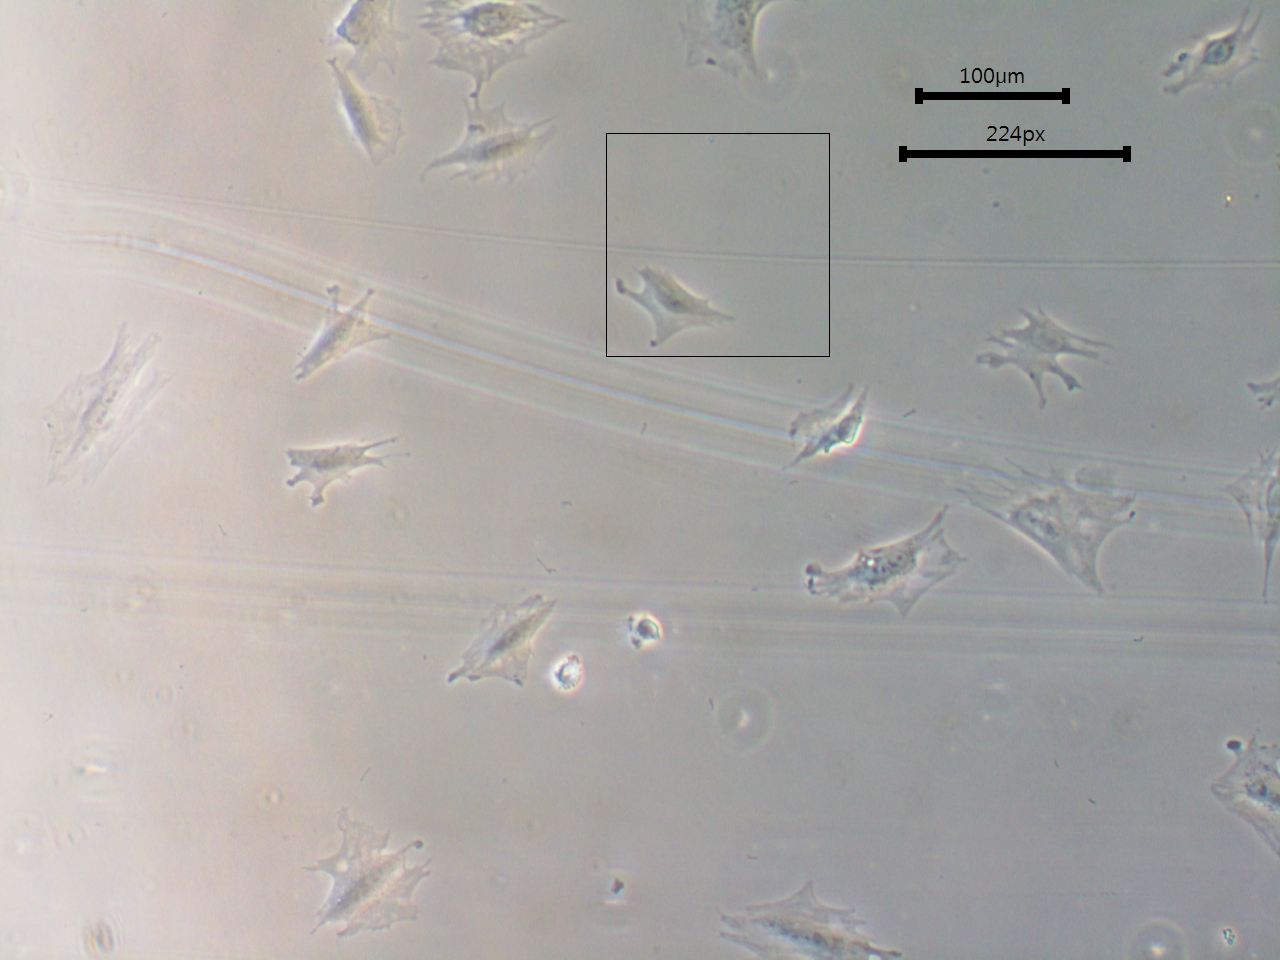dividing: (28, 308, 185, 509), (957, 449, 1154, 601)
medium-polygonal: (789, 491, 975, 634), (436, 574, 554, 700)
small-polygonal: (957, 287, 1128, 418), (267, 263, 410, 383), (423, 90, 578, 191), (273, 426, 412, 528), (612, 255, 749, 353)
small-spread: (1157, 2, 1278, 117), (315, 58, 417, 169)
